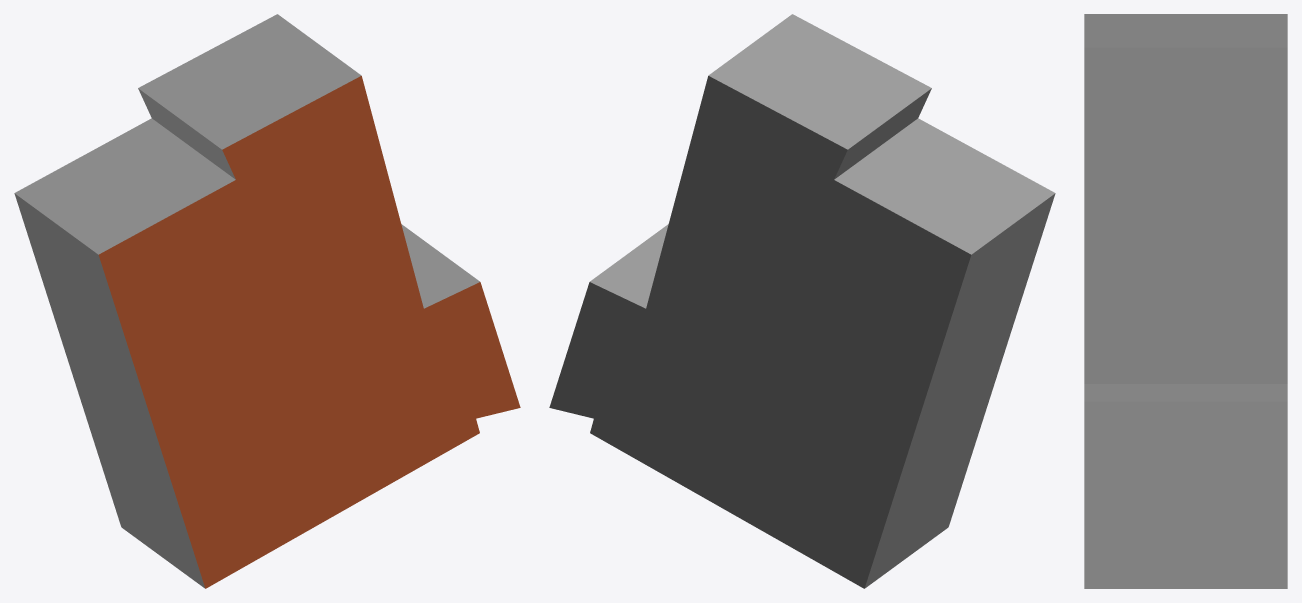
File: construction_5900_assumed_A_Casa_h6m.obj
3 renders of one model, left to right at view 1: azimuth 30°, elevation 25°; view 2: azimuth 150°, elevation 25°; view 3: azimuth 270°, elevation 25°, orthographic. The views are drawn at different scales.
Parts seen in each view (by area): view 1: construction_5900_assumed_A_Casa; view 2: construction_5900_assumed_A_Casa; view 3: construction_5900_assumed_A_Casa.
Boxes of the visible parts, x1=… form: construction_5900_assumed_A_Casa: x1=14, y1=14, x2=520, y2=588; construction_5900_assumed_A_Casa: x1=549, y1=14, x2=1055, y2=588; construction_5900_assumed_A_Casa: x1=1084, y1=14, x2=1287, y2=588.
Bounding box in the file's own units: 17.37 × 18.69 × 6.
